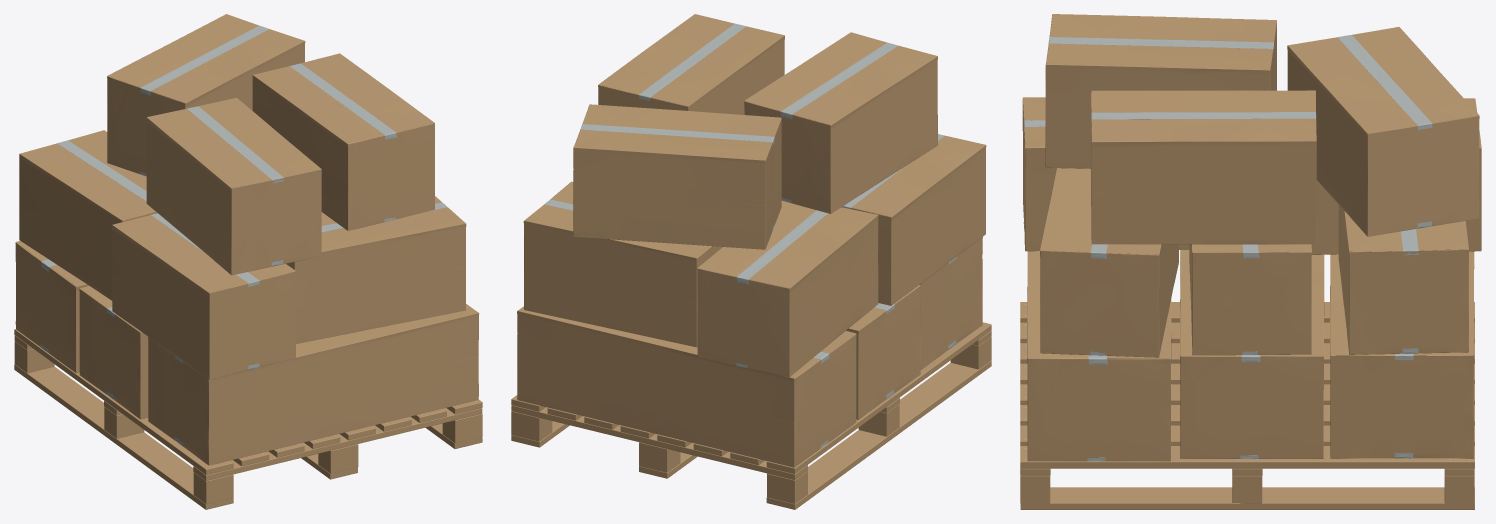
File: pallet_composition_a13.glb
3 renders of one model, left to right at view 1: azimuth 30°, elevation 25°; view 2: azimuth 150°, elevation 25°; view 3: azimuth 270°, elevation 25°, orthographic. The views are drawn at different scales.
Size of the model in its own units: 1 by 1.04 by 1.22.
